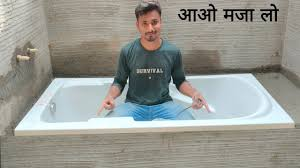bathub: (13, 73, 300, 168)
